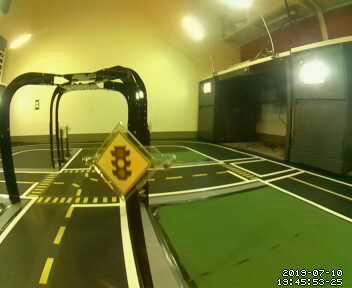Traffic light sign: (95, 136, 151, 191)
